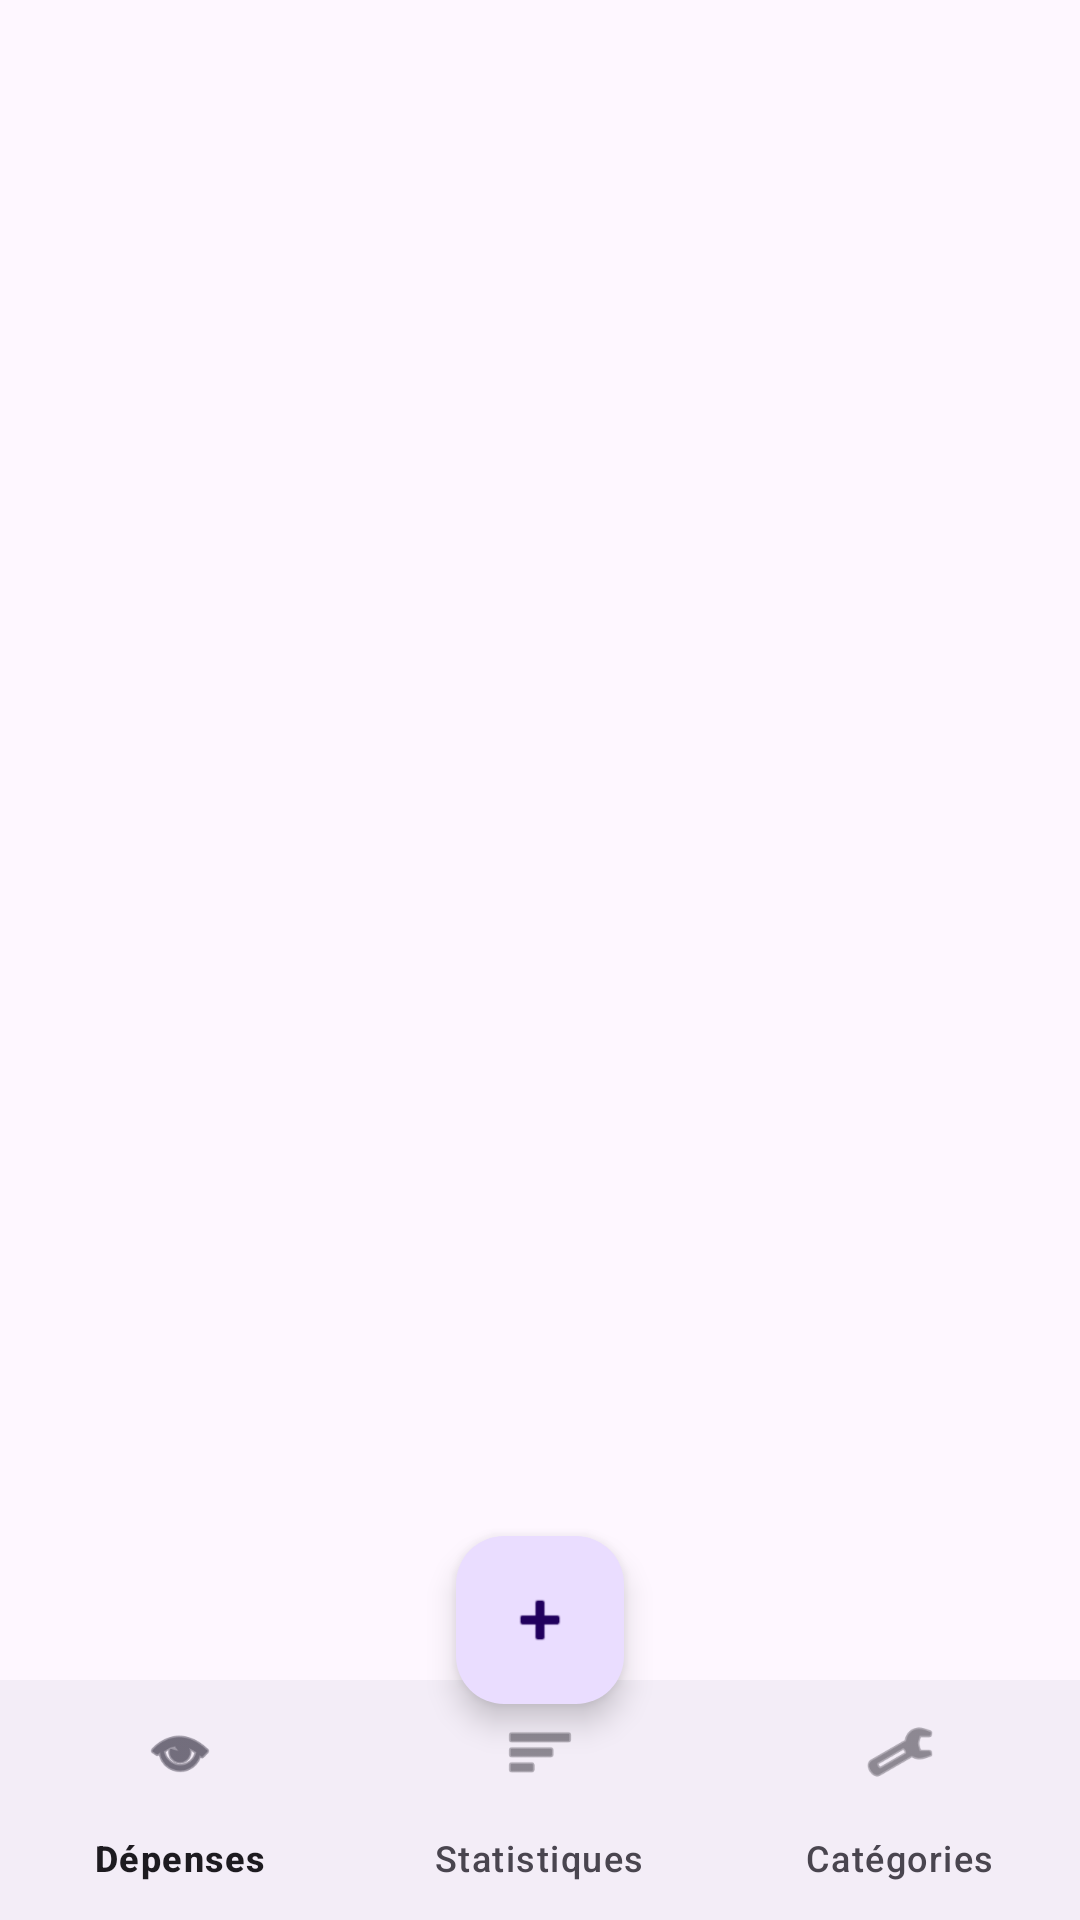

Locate icon controls on the screen. Image size 1080px x 1920px, boxes as (x1, y1, x2, y2).
Ajouter: (456, 1536, 624, 1704)
